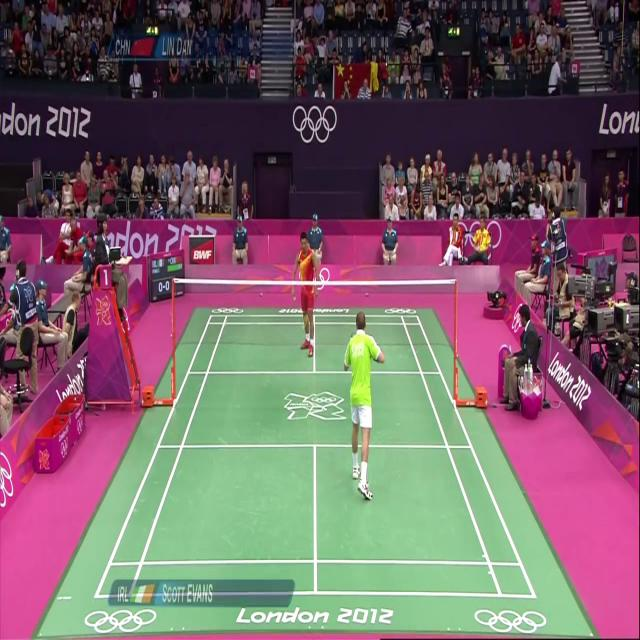Net: (171, 278, 460, 365)
Player1: (346, 288, 386, 510)
Player2: (289, 229, 327, 367)
Shuttlecock: (290, 289, 300, 303)
